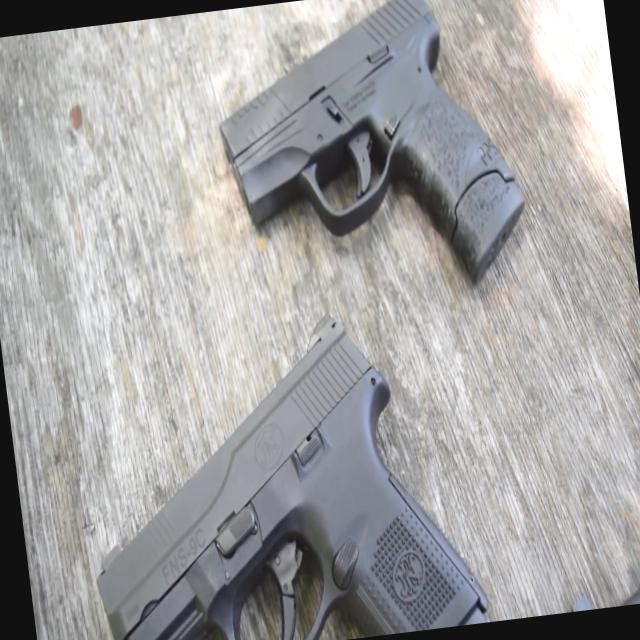handgun: (54, 278, 518, 639), (202, 0, 541, 313)
